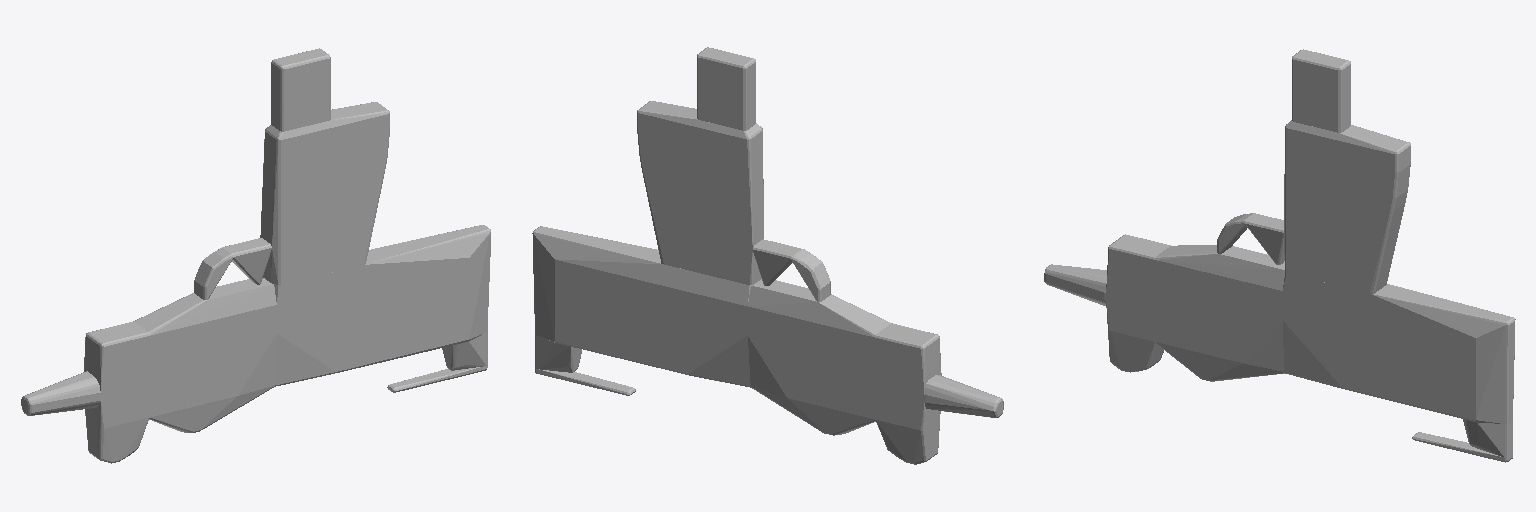
URDF robot description (root):
<robot name="root">
  <link name="link_coacd_convex_piece_0">
    <inertial>
      <origin xyz="0 0 0" rpy="0 0 0"/>
      <inertia ixx="4.81E-03" ixy="6.80E-06" ixz="3.01E-06" iyy="3.61E-03" iyz="-1.84E-03" izz="1.23E-03"/>
    </inertial>
    <visual>
      <origin xyz="0 0 0" rpy="0 0 0"/>
      <geometry>
        <mesh filename="coacd_convex_piece_0.obj" scale="1.0000E+00 1.0000E+00 1.0000E+00"/>
      </geometry>
      <material name="">
        <color rgba="7.50E-01 7.50E-01 7.50E-01 1"/>
      </material>
    </visual>
    <collision>
      <origin xyz="0 0 0" rpy="0 0 0"/>
      <geometry>
        <mesh filename="coacd_convex_piece_0.obj" scale="1.0000E+00 1.0000E+00 1.0000E+00"/>
      </geometry>
    </collision>
  </link>
  <link name="link_coacd_convex_piece_1">
    <inertial>
      <origin xyz="0 0 0" rpy="0 0 0"/>
      <inertia ixx="1.47E-03" ixy="4.84E-06" ixz="3.84E-06" iyy="4.30E-04" iyz="9.43E-04" izz="1.06E-03"/>
    </inertial>
    <visual>
      <origin xyz="0 0 0" rpy="0 0 0"/>
      <geometry>
        <mesh filename="coacd_convex_piece_1.obj" scale="1.0000E+00 1.0000E+00 1.0000E+00"/>
      </geometry>
      <material name="">
        <color rgba="7.50E-01 7.50E-01 7.50E-01 1"/>
      </material>
    </visual>
    <collision>
      <origin xyz="0 0 0" rpy="0 0 0"/>
      <geometry>
        <mesh filename="coacd_convex_piece_1.obj" scale="1.0000E+00 1.0000E+00 1.0000E+00"/>
      </geometry>
    </collision>
  </link>
  <joint name="link_coacd_convex_piece_1_joint" type="fixed">
    <origin xyz="0 0 0" rpy="0 0 0"/>
    <parent link="link_coacd_convex_piece_0"/>
    <child link="link_coacd_convex_piece_1"/>
  </joint>
  <link name="link_coacd_convex_piece_2">
    <inertial>
      <origin xyz="0 0 0" rpy="0 0 0"/>
      <inertia ixx="6.55E-04" ixy="1.87E-05" ixz="-1.83E-05" iyy="5.52E-04" iyz="5.75E-04" izz="1.19E-04"/>
    </inertial>
    <visual>
      <origin xyz="0 0 0" rpy="0 0 0"/>
      <geometry>
        <mesh filename="coacd_convex_piece_2.obj" scale="1.0000E+00 1.0000E+00 1.0000E+00"/>
      </geometry>
      <material name="">
        <color rgba="7.50E-01 7.50E-01 7.50E-01 1"/>
      </material>
    </visual>
    <collision>
      <origin xyz="0 0 0" rpy="0 0 0"/>
      <geometry>
        <mesh filename="coacd_convex_piece_2.obj" scale="1.0000E+00 1.0000E+00 1.0000E+00"/>
      </geometry>
    </collision>
  </link>
  <joint name="link_coacd_convex_piece_2_joint" type="fixed">
    <origin xyz="0 0 0" rpy="0 0 0"/>
    <parent link="link_coacd_convex_piece_1"/>
    <child link="link_coacd_convex_piece_2"/>
  </joint>
  <link name="link_coacd_convex_piece_3">
    <inertial>
      <origin xyz="0 0 0" rpy="0 0 0"/>
      <inertia ixx="4.11E-04" ixy="8.70E-06" ixz="-1.80E-06" iyy="2.30E-05" iyz="1.68E-04" izz="3.90E-04"/>
    </inertial>
    <visual>
      <origin xyz="0 0 0" rpy="0 0 0"/>
      <geometry>
        <mesh filename="coacd_convex_piece_3.obj" scale="1.0000E+00 1.0000E+00 1.0000E+00"/>
      </geometry>
      <material name="">
        <color rgba="7.50E-01 7.50E-01 7.50E-01 1"/>
      </material>
    </visual>
    <collision>
      <origin xyz="0 0 0" rpy="0 0 0"/>
      <geometry>
        <mesh filename="coacd_convex_piece_3.obj" scale="1.0000E+00 1.0000E+00 1.0000E+00"/>
      </geometry>
    </collision>
  </link>
  <joint name="link_coacd_convex_piece_3_joint" type="fixed">
    <origin xyz="0 0 0" rpy="0 0 0"/>
    <parent link="link_coacd_convex_piece_2"/>
    <child link="link_coacd_convex_piece_3"/>
  </joint>
  <link name="link_coacd_convex_piece_4">
    <inertial>
      <origin xyz="0 0 0" rpy="0 0 0"/>
      <inertia ixx="-3.48E-06" ixy="1.36E-07" ixz="9.56E-08" iyy="3.76E-06" iyz="7.96E-06" izz="-7.02E-06"/>
    </inertial>
    <visual>
      <origin xyz="0 0 0" rpy="0 0 0"/>
      <geometry>
        <mesh filename="coacd_convex_piece_4.obj" scale="1.0000E+00 1.0000E+00 1.0000E+00"/>
      </geometry>
      <material name="">
        <color rgba="7.50E-01 7.50E-01 7.50E-01 1"/>
      </material>
    </visual>
    <collision>
      <origin xyz="0 0 0" rpy="0 0 0"/>
      <geometry>
        <mesh filename="coacd_convex_piece_4.obj" scale="1.0000E+00 1.0000E+00 1.0000E+00"/>
      </geometry>
    </collision>
  </link>
  <joint name="link_coacd_convex_piece_4_joint" type="fixed">
    <origin xyz="0 0 0" rpy="0 0 0"/>
    <parent link="link_coacd_convex_piece_3"/>
    <child link="link_coacd_convex_piece_4"/>
  </joint>
  <link name="link_coacd_convex_piece_5">
    <inertial>
      <origin xyz="0 0 0" rpy="0 0 0"/>
      <inertia ixx="1.26E-04" ixy="5.36E-07" ixz="5.48E-07" iyy="7.11E-05" iyz="-6.25E-05" izz="5.54E-05"/>
    </inertial>
    <visual>
      <origin xyz="0 0 0" rpy="0 0 0"/>
      <geometry>
        <mesh filename="coacd_convex_piece_5.obj" scale="1.0000E+00 1.0000E+00 1.0000E+00"/>
      </geometry>
      <material name="">
        <color rgba="7.50E-01 7.50E-01 7.50E-01 1"/>
      </material>
    </visual>
    <collision>
      <origin xyz="0 0 0" rpy="0 0 0"/>
      <geometry>
        <mesh filename="coacd_convex_piece_5.obj" scale="1.0000E+00 1.0000E+00 1.0000E+00"/>
      </geometry>
    </collision>
  </link>
  <joint name="link_coacd_convex_piece_5_joint" type="fixed">
    <origin xyz="0 0 0" rpy="0 0 0"/>
    <parent link="link_coacd_convex_piece_4"/>
    <child link="link_coacd_convex_piece_5"/>
  </joint>
  <link name="link_coacd_convex_piece_6">
    <inertial>
      <origin xyz="0 0 0" rpy="0 0 0"/>
      <inertia ixx="4.66E-04" ixy="4.94E-07" ixz="4.94E-07" iyy="3.20E-04" iyz="-2.19E-04" izz="1.46E-04"/>
    </inertial>
    <visual>
      <origin xyz="0 0 0" rpy="0 0 0"/>
      <geometry>
        <mesh filename="coacd_convex_piece_6.obj" scale="1.0000E+00 1.0000E+00 1.0000E+00"/>
      </geometry>
      <material name="">
        <color rgba="7.50E-01 7.50E-01 7.50E-01 1"/>
      </material>
    </visual>
    <collision>
      <origin xyz="0 0 0" rpy="0 0 0"/>
      <geometry>
        <mesh filename="coacd_convex_piece_6.obj" scale="1.0000E+00 1.0000E+00 1.0000E+00"/>
      </geometry>
    </collision>
  </link>
  <joint name="link_coacd_convex_piece_6_joint" type="fixed">
    <origin xyz="0 0 0" rpy="0 0 0"/>
    <parent link="link_coacd_convex_piece_5"/>
    <child link="link_coacd_convex_piece_6"/>
  </joint>
  <link name="link_coacd_convex_piece_7">
    <inertial>
      <origin xyz="0 0 0" rpy="0 0 0"/>
      <inertia ixx="1.61E-03" ixy="9.59E-07" ixz="2.70E-06" iyy="1.07E-03" iyz="9.23E-04" izz="5.49E-04"/>
    </inertial>
    <visual>
      <origin xyz="0 0 0" rpy="0 0 0"/>
      <geometry>
        <mesh filename="coacd_convex_piece_7.obj" scale="1.0000E+00 1.0000E+00 1.0000E+00"/>
      </geometry>
      <material name="">
        <color rgba="7.50E-01 7.50E-01 7.50E-01 1"/>
      </material>
    </visual>
    <collision>
      <origin xyz="0 0 0" rpy="0 0 0"/>
      <geometry>
        <mesh filename="coacd_convex_piece_7.obj" scale="1.0000E+00 1.0000E+00 1.0000E+00"/>
      </geometry>
    </collision>
  </link>
  <joint name="link_coacd_convex_piece_7_joint" type="fixed">
    <origin xyz="0 0 0" rpy="0 0 0"/>
    <parent link="link_coacd_convex_piece_6"/>
    <child link="link_coacd_convex_piece_7"/>
  </joint>
  <link name="link_coacd_convex_piece_8">
    <inertial>
      <origin xyz="0 0 0" rpy="0 0 0"/>
      <inertia ixx="4.98E-04" ixy="8.45E-07" ixz="-4.91E-07" iyy="4.12E-04" iyz="2.35E-04" izz="8.63E-05"/>
    </inertial>
    <visual>
      <origin xyz="0 0 0" rpy="0 0 0"/>
      <geometry>
        <mesh filename="coacd_convex_piece_8.obj" scale="1.0000E+00 1.0000E+00 1.0000E+00"/>
      </geometry>
      <material name="">
        <color rgba="7.50E-01 7.50E-01 7.50E-01 1"/>
      </material>
    </visual>
    <collision>
      <origin xyz="0 0 0" rpy="0 0 0"/>
      <geometry>
        <mesh filename="coacd_convex_piece_8.obj" scale="1.0000E+00 1.0000E+00 1.0000E+00"/>
      </geometry>
    </collision>
  </link>
  <joint name="link_coacd_convex_piece_8_joint" type="fixed">
    <origin xyz="0 0 0" rpy="0 0 0"/>
    <parent link="link_coacd_convex_piece_7"/>
    <child link="link_coacd_convex_piece_8"/>
  </joint>
  <link name="link_coacd_convex_piece_9">
    <inertial>
      <origin xyz="0 0 0" rpy="0 0 0"/>
      <inertia ixx="-1.65E-05" ixy="2.11E-07" ixz="1.40E-07" iyy="-4.65E-06" iyz="8.62E-06" izz="-1.16E-05"/>
    </inertial>
    <visual>
      <origin xyz="0 0 0" rpy="0 0 0"/>
      <geometry>
        <mesh filename="coacd_convex_piece_9.obj" scale="1.0000E+00 1.0000E+00 1.0000E+00"/>
      </geometry>
      <material name="">
        <color rgba="7.50E-01 7.50E-01 7.50E-01 1"/>
      </material>
    </visual>
    <collision>
      <origin xyz="0 0 0" rpy="0 0 0"/>
      <geometry>
        <mesh filename="coacd_convex_piece_9.obj" scale="1.0000E+00 1.0000E+00 1.0000E+00"/>
      </geometry>
    </collision>
  </link>
  <joint name="link_coacd_convex_piece_9_joint" type="fixed">
    <origin xyz="0 0 0" rpy="0 0 0"/>
    <parent link="link_coacd_convex_piece_8"/>
    <child link="link_coacd_convex_piece_9"/>
  </joint>
</robot>

--- Render facts (derived) ---
The picture shows the robot from 3 angles, left to right: view 1: azimuth 30°, elevation 25°; view 2: azimuth 150°, elevation 25°; view 3: azimuth 330°, elevation 25°; orthographic projection.
Model root with 10 links and 9 joints (9 fixed), rooted at link_coacd_convex_piece_0, posed all joints at 0.
Visible links, largest first — view 1: link_coacd_convex_piece_0, link_coacd_convex_piece_2, link_coacd_convex_piece_1, link_coacd_convex_piece_7, link_coacd_convex_piece_3, link_coacd_convex_piece_8, link_coacd_convex_piece_9, link_coacd_convex_piece_6, link_coacd_convex_piece_4, link_coacd_convex_piece_5; view 2: link_coacd_convex_piece_0, link_coacd_convex_piece_2, link_coacd_convex_piece_1, link_coacd_convex_piece_7, link_coacd_convex_piece_3, link_coacd_convex_piece_8, link_coacd_convex_piece_9, link_coacd_convex_piece_6, link_coacd_convex_piece_4, link_coacd_convex_piece_5; view 3: link_coacd_convex_piece_0, link_coacd_convex_piece_2, link_coacd_convex_piece_1, link_coacd_convex_piece_7, link_coacd_convex_piece_3, link_coacd_convex_piece_8, link_coacd_convex_piece_6, link_coacd_convex_piece_9, link_coacd_convex_piece_5, link_coacd_convex_piece_4.
Boxes of the visible links, x1,y1,x2,y2 form: link_coacd_convex_piece_0: (274,225,490,386); link_coacd_convex_piece_2: (260,102,389,284); link_coacd_convex_piece_1: (134,278,276,432); link_coacd_convex_piece_7: (84,321,149,463); link_coacd_convex_piece_3: (271,48,330,131); link_coacd_convex_piece_8: (21,371,100,415); link_coacd_convex_piece_9: (224,238,271,284); link_coacd_convex_piece_6: (442,332,487,370); link_coacd_convex_piece_4: (194,247,233,299); link_coacd_convex_piece_5: (387,365,487,392); link_coacd_convex_piece_0: (532,226,750,387); link_coacd_convex_piece_2: (637,101,763,284); link_coacd_convex_piece_1: (748,279,890,435); link_coacd_convex_piece_7: (875,323,941,464); link_coacd_convex_piece_3: (697,47,755,130); link_coacd_convex_piece_8: (924,375,1003,417); link_coacd_convex_piece_9: (753,239,800,285); link_coacd_convex_piece_6: (535,335,581,372); link_coacd_convex_piece_4: (791,249,830,301); link_coacd_convex_piece_5: (535,368,635,395); link_coacd_convex_piece_0: (1283,273,1515,423); link_coacd_convex_piece_2: (1284,120,1410,293); link_coacd_convex_piece_1: (1155,245,1284,381); link_coacd_convex_piece_7: (1106,234,1170,372); link_coacd_convex_piece_3: (1292,49,1350,132); link_coacd_convex_piece_8: (1044,264,1106,305); link_coacd_convex_piece_6: (1463,419,1512,457); link_coacd_convex_piece_9: (1245,213,1284,264); link_coacd_convex_piece_5: (1412,432,1512,462); link_coacd_convex_piece_4: (1217,213,1254,253).
Bounding box of the posed robot: 1.59 × 0.1035 × 1.17 m (x, y, z).
Meshes: 10 distinct files referenced, 10 mesh visuals loaded (10 OBJ).
